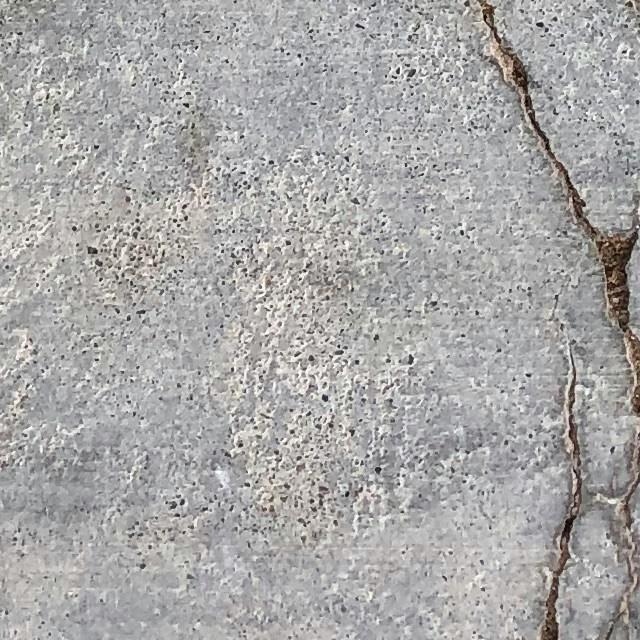branched cracks: (474, 0, 639, 639), (540, 352, 582, 639)
